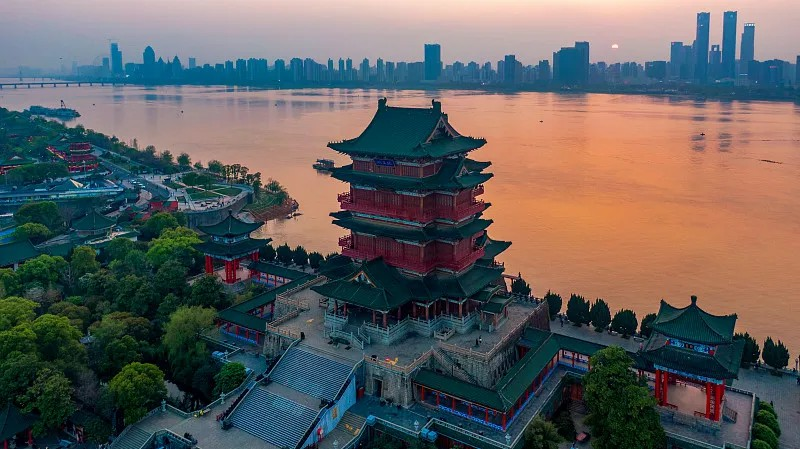Teng: (328, 97, 515, 327)
